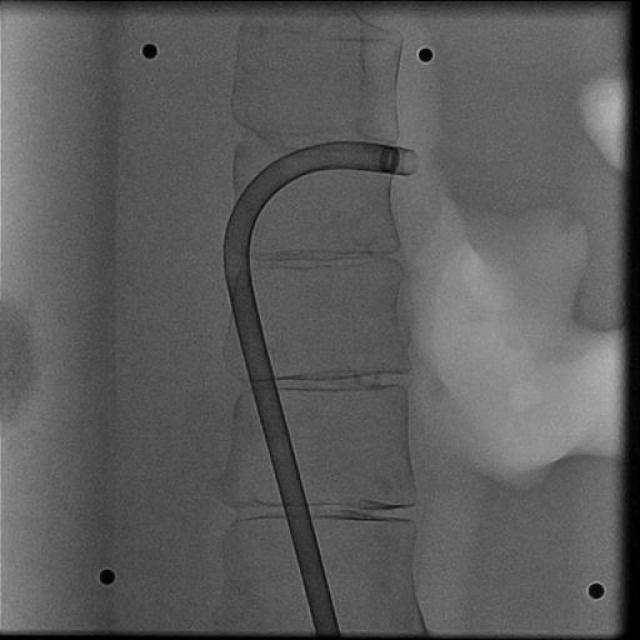bend: (223, 249, 250, 271)
entry: (315, 627, 340, 633)
marker: (378, 147, 400, 176)
tip: (400, 149, 420, 176)
